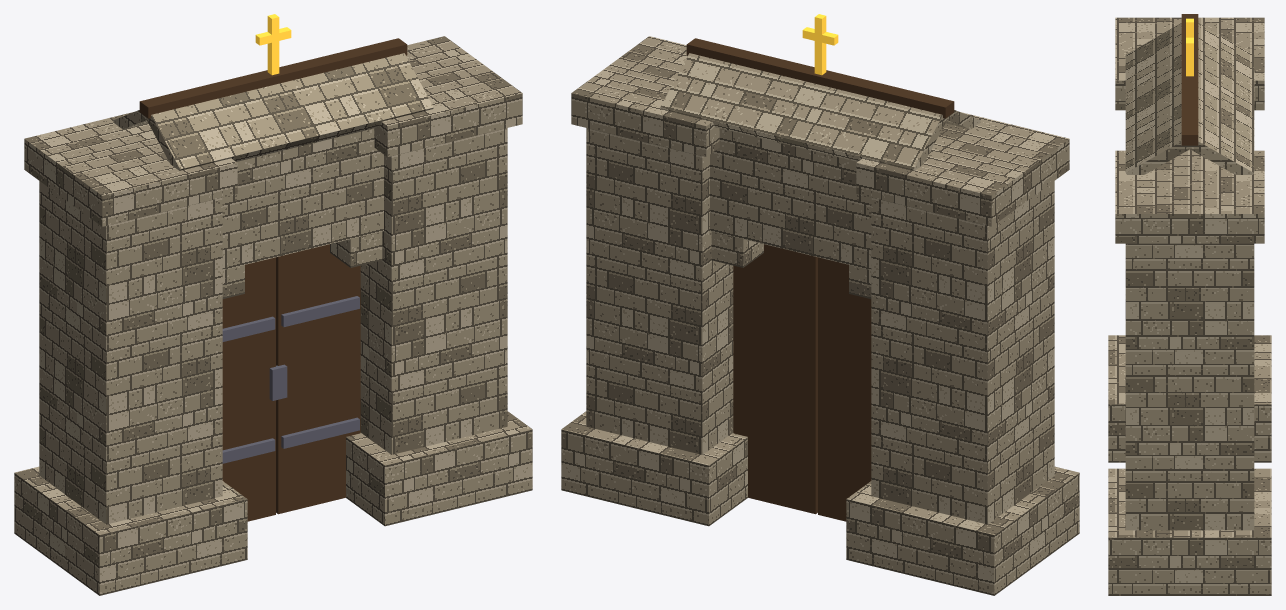
File: abbey_gate_repaired.glb
3 views of the same model, side by side, from view 1: azimuth 30°, elevation 25°; view 2: azimuth 150°, elevation 25°; view 3: azimuth 270°, elevation 25° (orthographic). The views are drawn at different scales.
Parts seen in each view (by area): view 1: pier_block_l, pier_block_r, door_leaf_0, gable_slab_1, pier_plinth_l, arch_span, pier_cap_l, pier_plinth_r, door_leaf_1, pier_cap_r, gable_ridge, arch_corbel_0 (+6 smaller); view 2: pier_block_l, pier_block_r, door_leaf_0, gable_slab_0, pier_plinth_l, arch_span, pier_cap_l, pier_plinth_r, door_leaf_1, pier_cap_r, gable_ridge, arch_corbel_0 (+2 smaller); view 3: pier_block_r, pier_plinth_r, pier_cap_r, gable_slab_0, gable_slab_1, pier_plinth_l, pier_cap_l, gable_ridge, cross_post.
Boxes of the visible parts, left/top/right/bottom form: pier_block_l: left=39, top=181, right=222, bottom=524; pier_block_r: left=360, top=128, right=507, bottom=454; door_leaf_0: left=276, top=244, right=360, bottom=514; gable_slab_1: left=145, top=53, right=433, bottom=170; pier_plinth_l: left=14, top=466, right=247, bottom=595; arch_span: left=222, top=128, right=383, bottom=269; pier_cap_l: left=24, top=112, right=237, bottom=226; pier_plinth_r: left=346, top=411, right=532, bottom=526; door_leaf_1: left=222, top=257, right=275, bottom=521; pier_cap_r: left=374, top=36, right=522, bottom=156; gable_ridge: left=139, top=38, right=407, bottom=118; arch_corbel_0: left=330, top=231, right=382, bottom=267; pier_block_l: left=871, top=181, right=1054, bottom=524; pier_block_r: left=586, top=128, right=733, bottom=454; door_leaf_0: left=733, top=244, right=817, bottom=514; gable_slab_0: left=660, top=53, right=946, bottom=170; pier_plinth_l: left=846, top=466, right=1079, bottom=595; arch_span: left=710, top=128, right=871, bottom=269; pier_cap_l: left=856, top=112, right=1069, bottom=226; pier_plinth_r: left=561, top=411, right=747, bottom=526; door_leaf_1: left=818, top=257, right=871, bottom=521; pier_cap_r: left=571, top=36, right=719, bottom=156; gable_ridge: left=686, top=38, right=954, bottom=118; arch_corbel_0: left=711, top=231, right=763, bottom=267; pier_block_r: left=1125, top=243, right=1254, bottom=530; pier_plinth_r: left=1108, top=468, right=1271, bottom=595; pier_cap_r: left=1115, top=150, right=1264, bottom=243; gable_slab_0: left=1187, top=23, right=1254, bottom=174; gable_slab_1: left=1125, top=23, right=1191, bottom=174; pier_plinth_l: left=1108, top=335, right=1271, bottom=462; pier_cap_l: left=1115, top=17, right=1264, bottom=110; gable_ridge: left=1181, top=14, right=1198, bottom=145; cross_post: left=1186, top=18, right=1193, bottom=76.
Size of what is drawn, in the model's own units: 4.1 by 4.48 by 1.4.
Materials: 4 (1 with a texture image).
